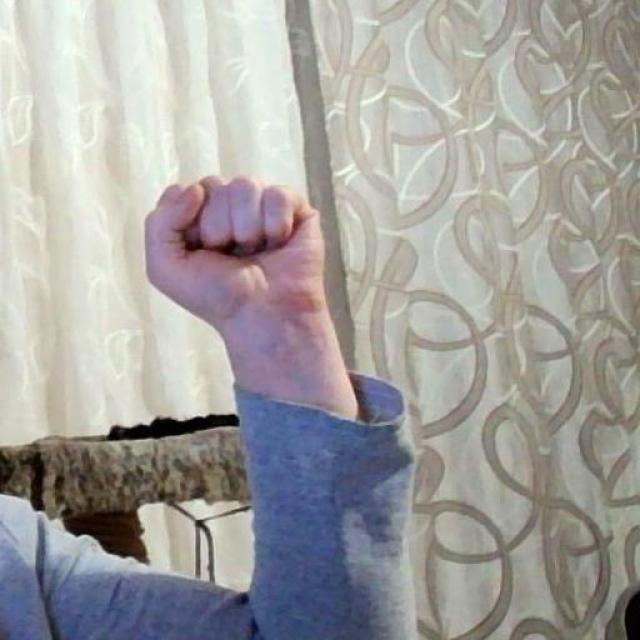hand: (144, 173, 360, 335)
